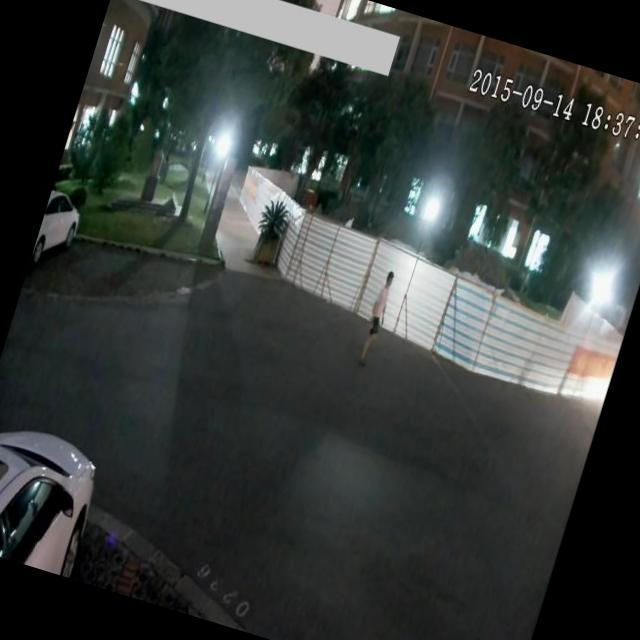person: (348, 262, 403, 378)
